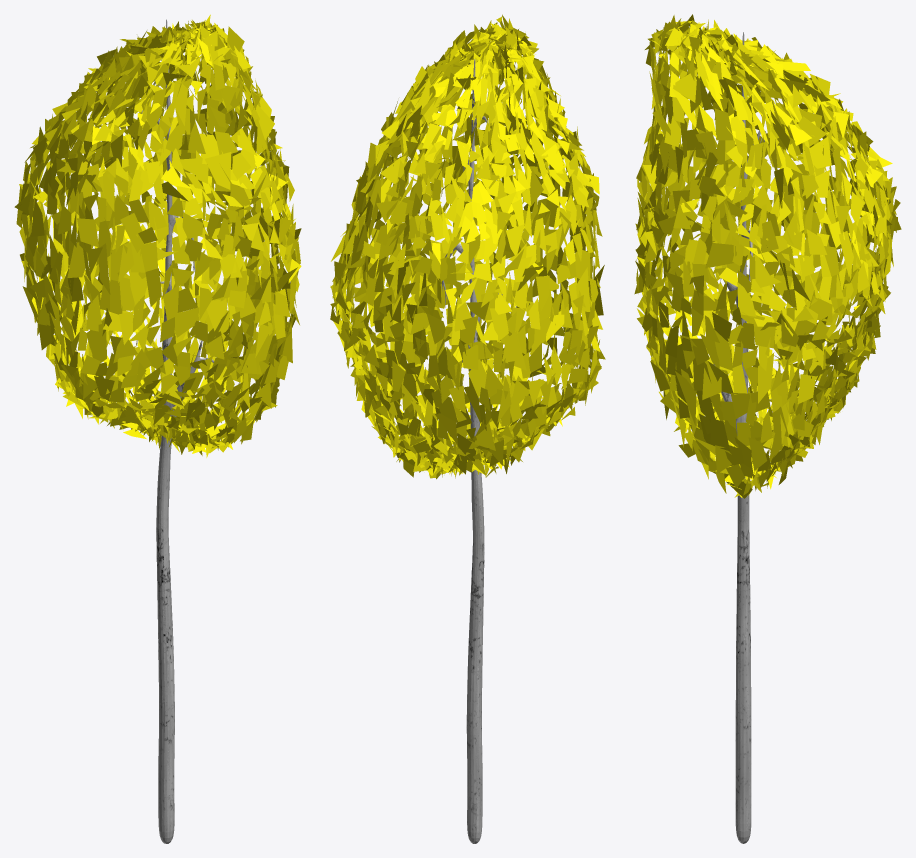
The model's file is Leaves65.fbx.
3 renders of one model, left to right at view 1: azimuth 30°, elevation 25°; view 2: azimuth 150°, elevation 25°; view 3: azimuth 270°, elevation 25°, orthographic. The views are drawn at different scales.
Parts seen in each view (by area): view 1: Leaves65; view 2: Leaves65; view 3: Leaves65.
Boxes of the visible parts, box(x1,y1,x2,y2) form: Leaves65: box(14, 14, 301, 843); Leaves65: box(330, 14, 605, 843); Leaves65: box(634, 14, 901, 843).
Bounding box in the file's own units: 795 × 2628 × 768.
Materials: 2 (1 with a texture image).
